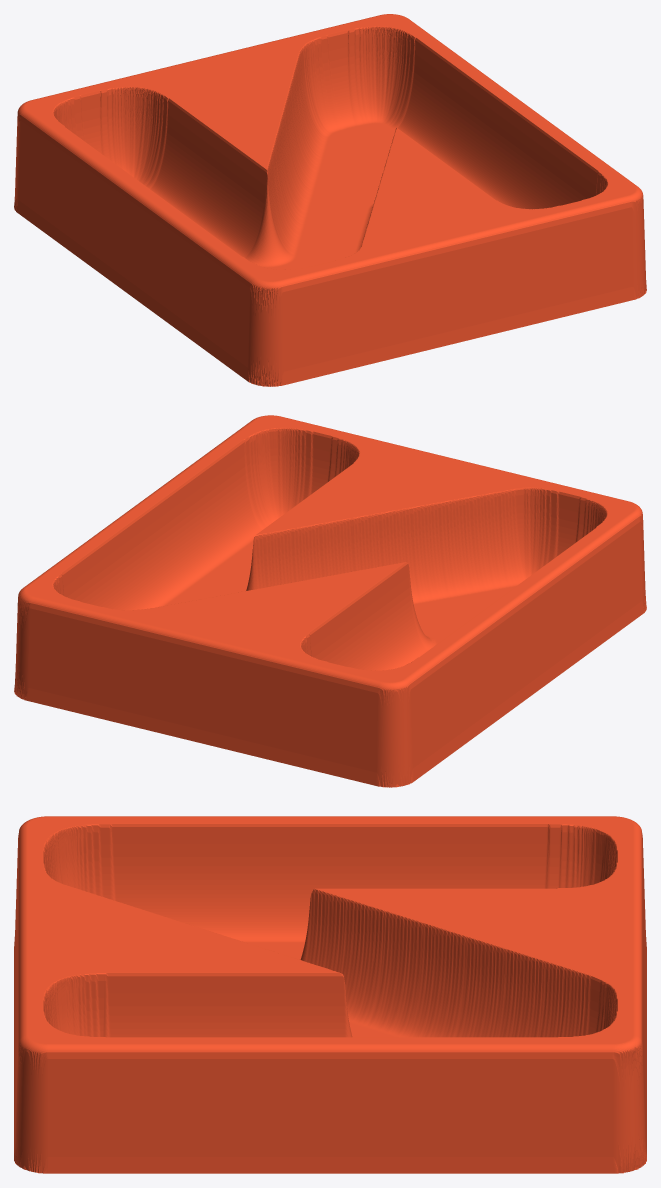
File: mold.glb
The picture shows the model from 3 angles, top to bottom: view 1: azimuth 30°, elevation 25°; view 2: azimuth 150°, elevation 25°; view 3: azimuth 270°, elevation 25°; orthographic projection. The views are drawn at different scales.
Parts seen in each view (by area): view 1: geometry_0; view 2: geometry_0; view 3: geometry_0.
Boxes of the visible parts, left/top/right/bottom form: geometry_0: left=14, top=14, right=646, bottom=386; geometry_0: left=14, top=415, right=646, bottom=787; geometry_0: left=14, top=816, right=646, bottom=1173.
Size of the model in its own units: 0.1505 by 0.0365 by 0.1689.
